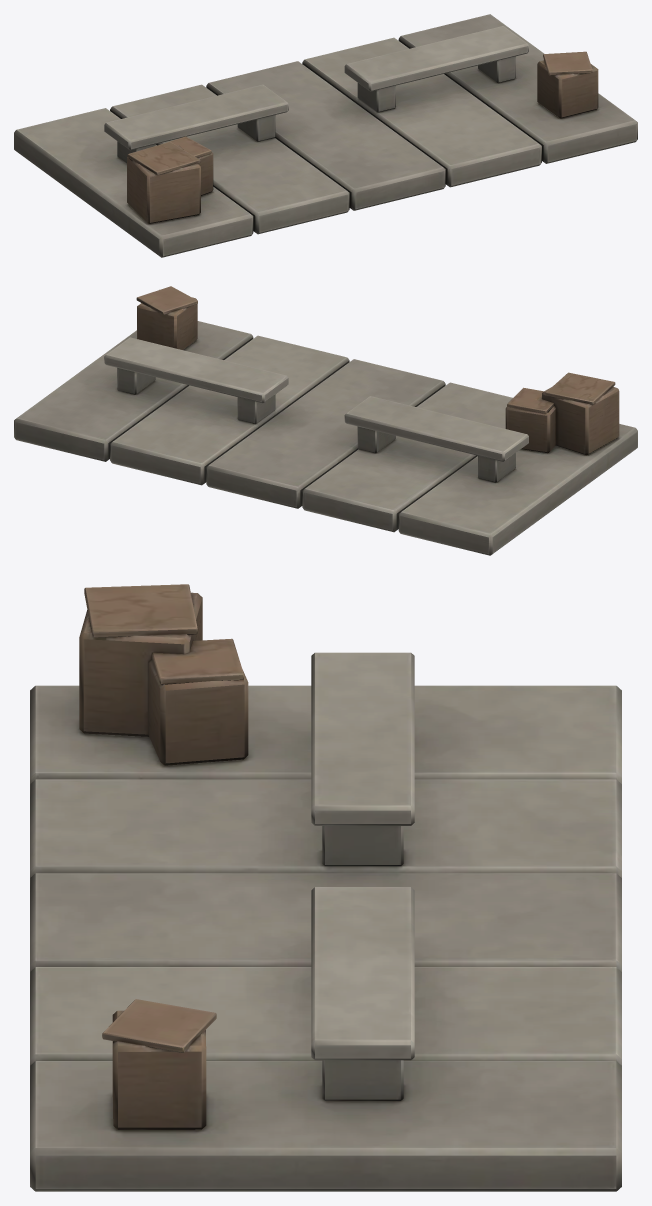
The model's file is skirt_fray_low.glb.
3 renders of one model, top to bottom at view 1: azimuth 30°, elevation 25°; view 2: azimuth 150°, elevation 25°; view 3: azimuth 270°, elevation 25°, orthographic. The views are drawn at different scales.
Visible parts, largest first — view 1: skirt_fray_low_body; view 2: skirt_fray_low_body; view 3: skirt_fray_low_body.
Boxes of the visible parts, bbox=[...] form: skirt_fray_low_body: bbox=[14, 14, 637, 257]; skirt_fray_low_body: bbox=[14, 286, 637, 555]; skirt_fray_low_body: bbox=[30, 584, 621, 1191].
Size of the model in its own units: 5.98 by 0.8915 by 3.2.
1 material, 1 textured.
